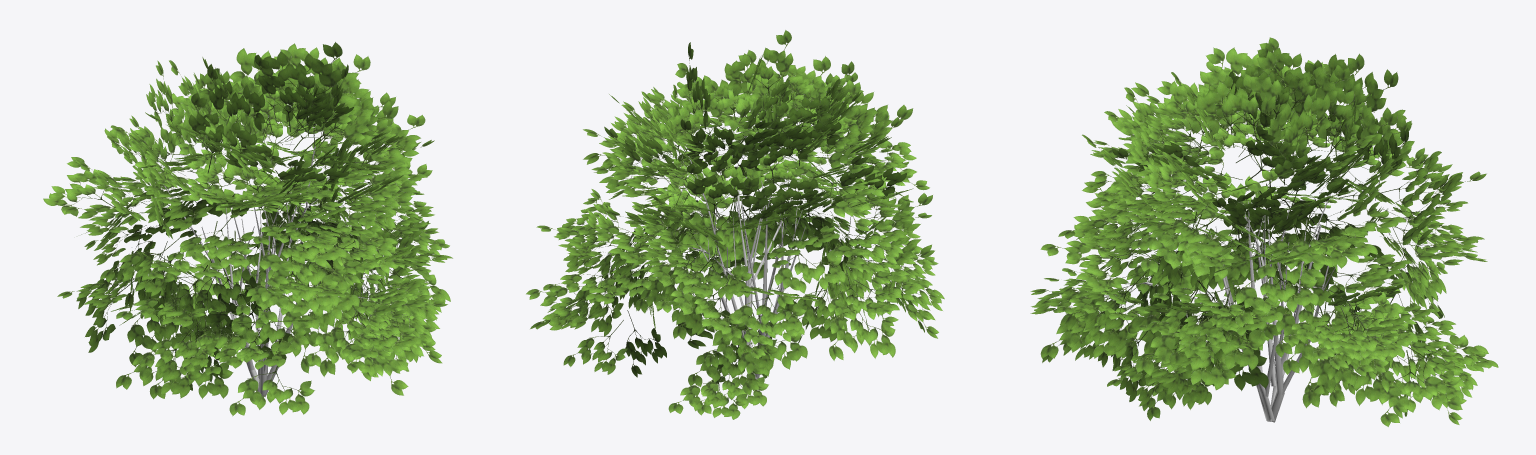
Rendered from bush.fbx.
3 renders of one model, left to right at view 1: azimuth 30°, elevation 25°; view 2: azimuth 150°, elevation 25°; view 3: azimuth 270°, elevation 25°, orthographic. The views are drawn at different scales.
Parts seen in each view (by area): view 1: leaves, tree; view 2: leaves, tree; view 3: leaves, tree.
Part boxes in pixels (x1=…): leaves: x1=43, y1=42, x2=452, y2=416; tree: x1=163, y1=146, x2=369, y2=396; leaves: x1=526, y1=30, x2=944, y2=419; tree: x1=681, y1=153, x2=805, y2=379; leaves: x1=1030, y1=37, x2=1498, y2=426; tree: x1=1122, y1=176, x2=1337, y2=422.
Size of the model in its own units: 164 by 144 by 178.
